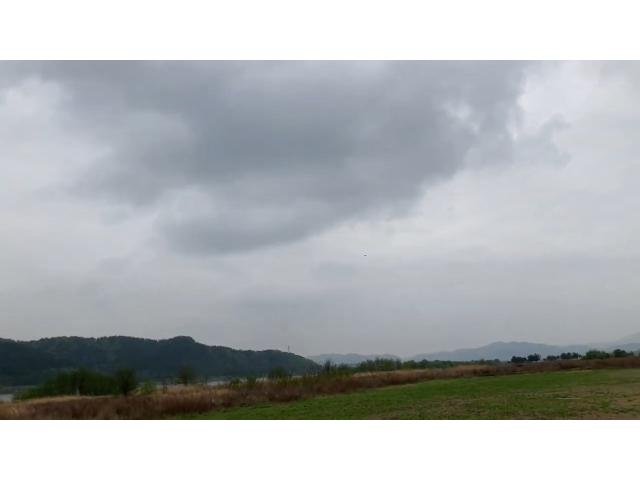Anti-Drone: (358, 250, 370, 260)
